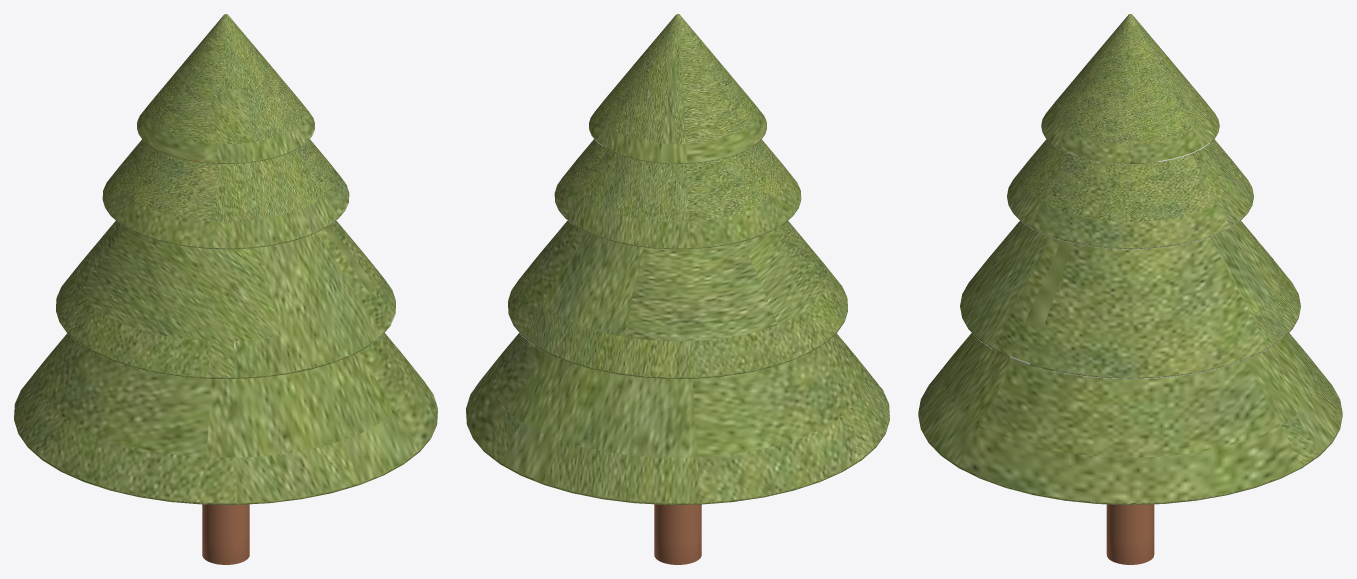
File: brad.obj
The picture shows the model from 3 angles, left to right: view 1: azimuth 30°, elevation 25°; view 2: azimuth 150°, elevation 25°; view 3: azimuth 270°, elevation 25°; orthographic projection.
Visible parts, largest first — view 1: lowpoyltree.005; view 2: lowpoyltree.005; view 3: lowpoyltree.005.
Boxes of the visible parts, x1,y1,x2,y2 form: lowpoyltree.005: [14, 14, 437, 564]; lowpoyltree.005: [466, 14, 889, 564]; lowpoyltree.005: [918, 14, 1342, 564].
Size of the model in its own units: 8.7 by 12.22 by 8.7.
Materials: 1 (1 with a texture image).
